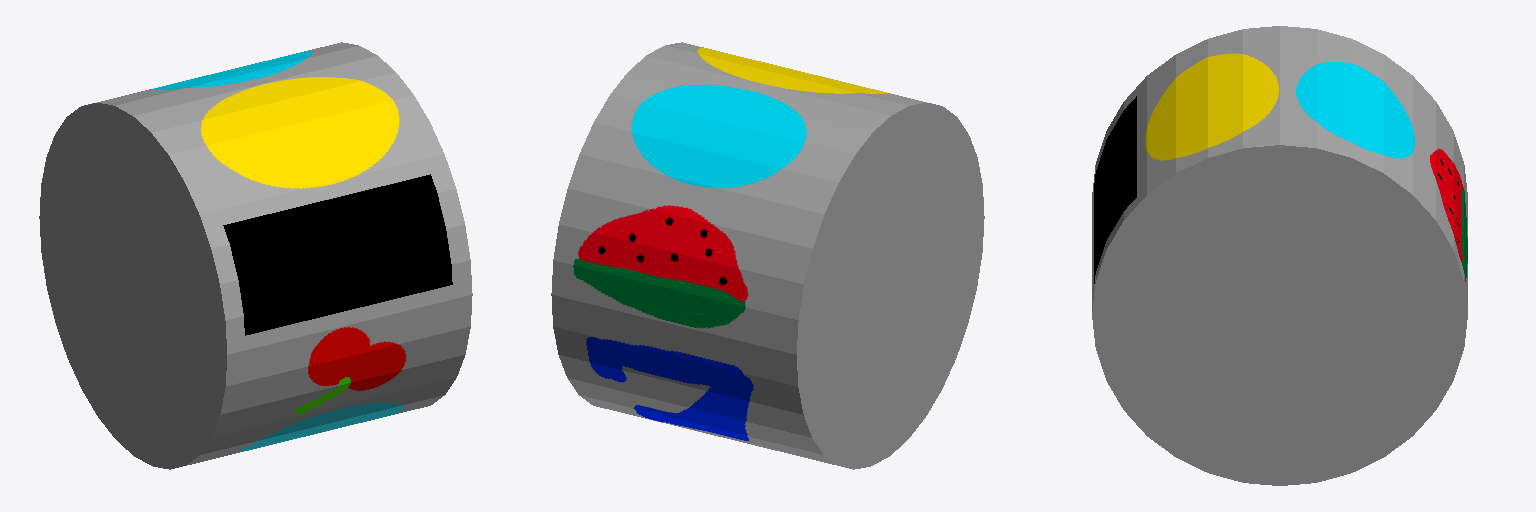
3 renders of one model, left to right at view 1: azimuth 30°, elevation 25°; view 2: azimuth 150°, elevation 25°; view 3: azimuth 270°, elevation 25°, orthographic.
Visible parts, largest first — view 1: 円柱; view 2: 円柱; view 3: 円柱.
Boxes of the visible parts, <box> form: 円柱: <box>39,42,472,469</box>; 円柱: <box>551,42,984,469</box>; 円柱: <box>1092,26,1467,485</box>.
Bounding box in the file's own units: 4.02 × 5.31 × 5.31.
Materials: 1 (1 with a texture image).